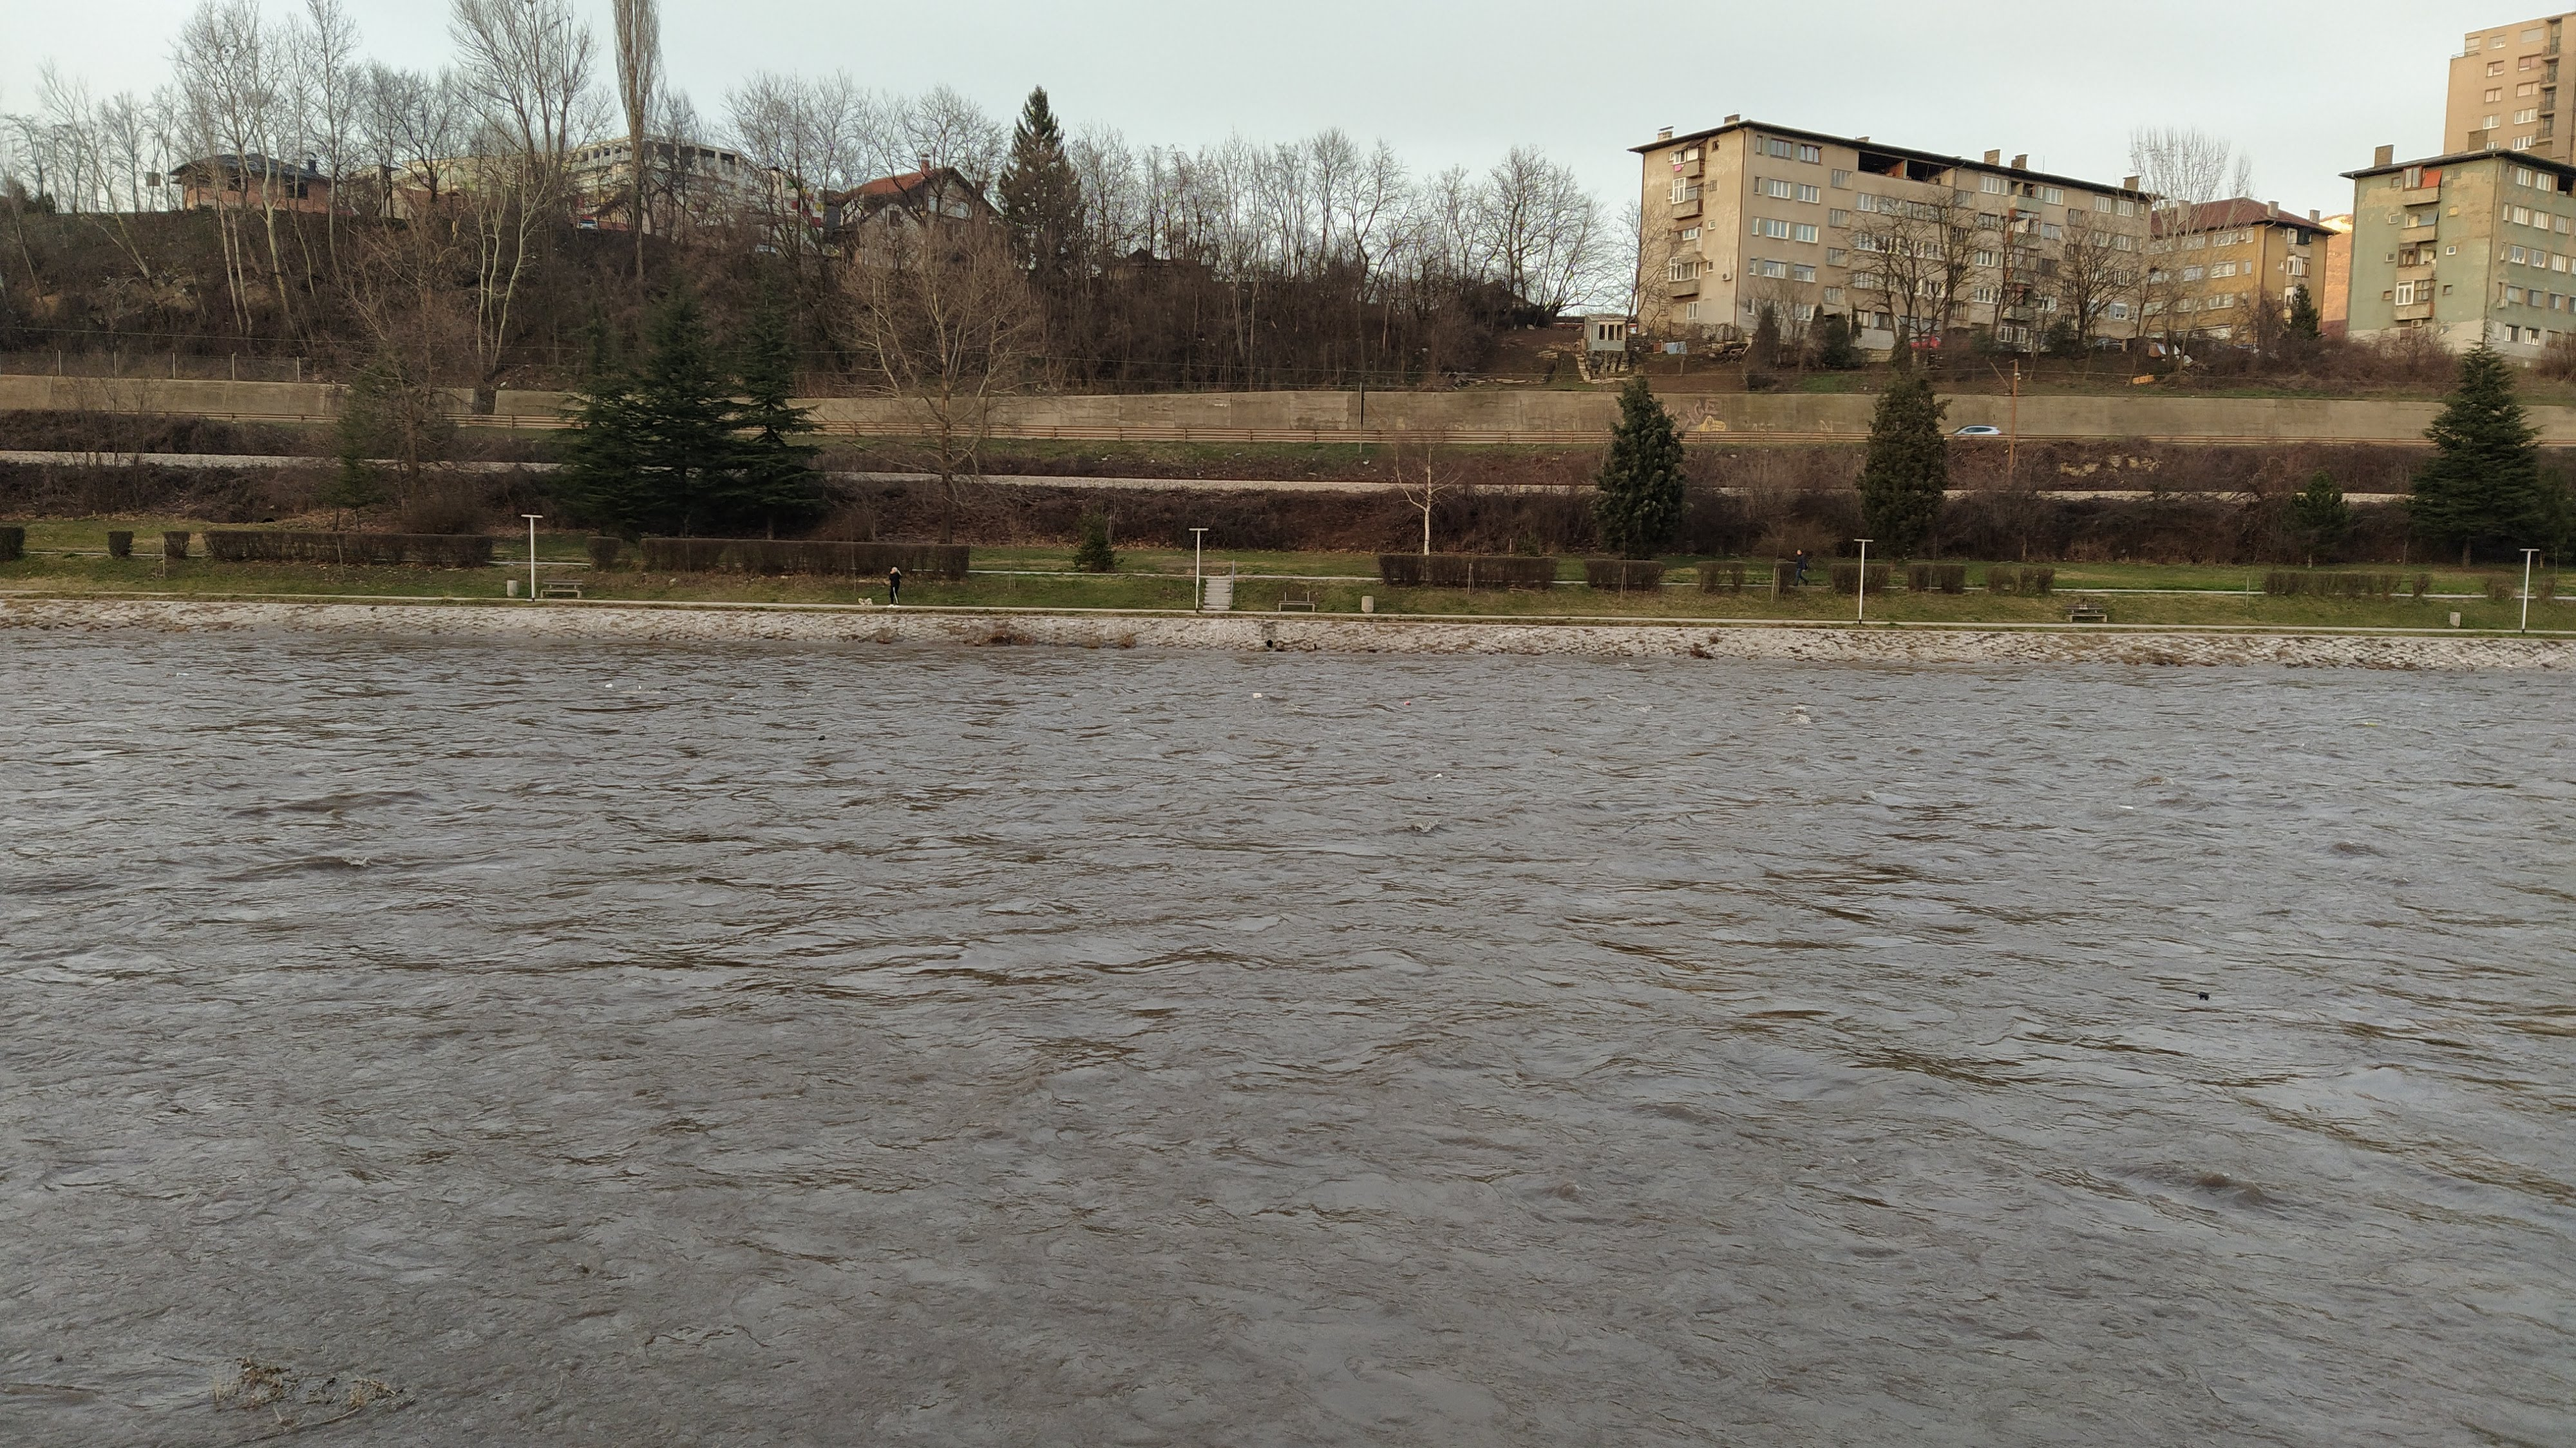Plastic Bottle: (2197, 991, 2210, 1000), (175, 673, 188, 676), (817, 735, 824, 740), (603, 683, 610, 687), (1433, 774, 1440, 777), (1403, 701, 1408, 705)
